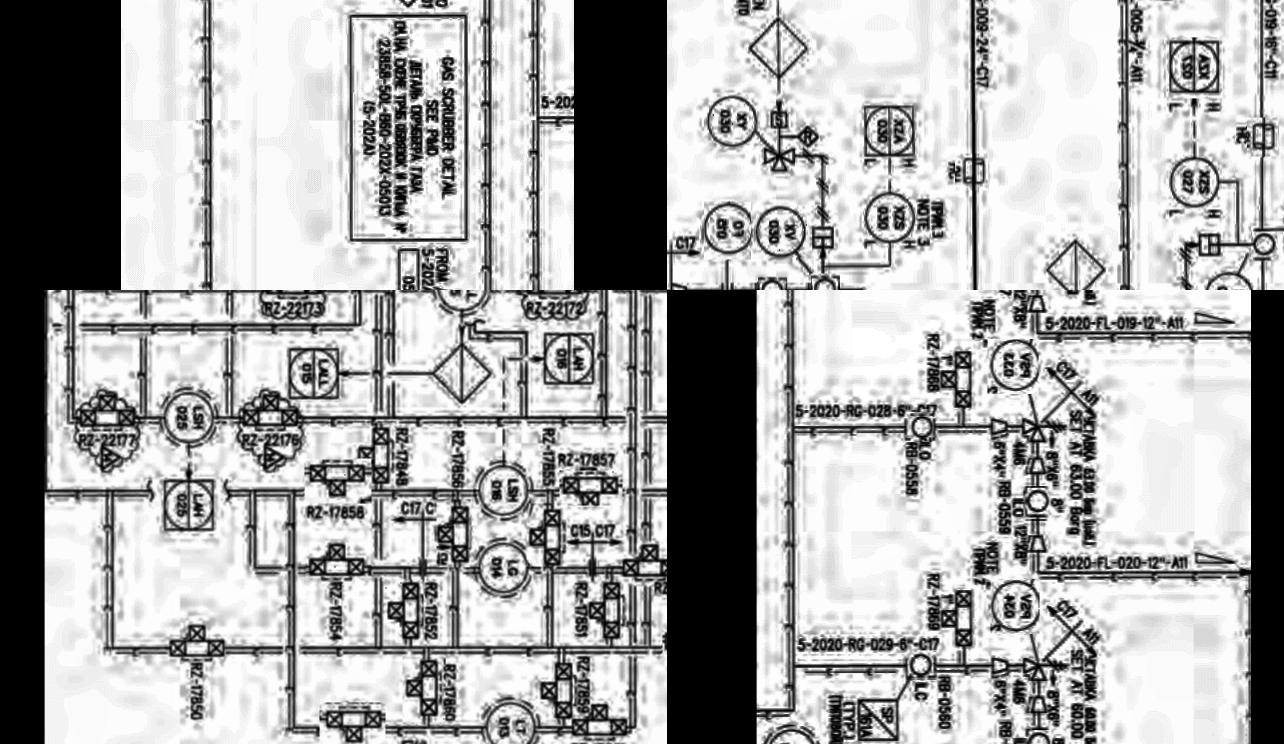2 WAY VALVE: (74, 387, 140, 434), (302, 459, 370, 504), (584, 576, 628, 644), (402, 656, 445, 724), (568, 700, 636, 742), (352, 422, 395, 488), (304, 542, 370, 584), (318, 702, 384, 744), (238, 390, 304, 432), (166, 622, 231, 664), (384, 579, 422, 649), (539, 660, 579, 724), (526, 503, 566, 566), (434, 499, 470, 567), (940, 345, 976, 412), (940, 585, 976, 648), (557, 470, 621, 505), (620, 540, 667, 583), (521, 290, 589, 302), (252, 290, 331, 300)
3 WAY GENERAL VALVE: (760, 145, 798, 173)
ANGLE RELIEF VALVE: (1014, 414, 1070, 446), (1018, 655, 1076, 683)
CONCENTRIC REDUCER: (986, 653, 1012, 677), (1024, 532, 1047, 556), (1025, 293, 1049, 315), (986, 418, 1012, 438), (1029, 694, 1047, 718), (1027, 456, 1048, 476)
DCS ACCESSIBLE: (858, 96, 921, 164), (158, 475, 222, 537), (539, 329, 600, 393), (1162, 38, 1224, 100), (284, 343, 344, 404)
DUPLEX RECEPTACLE: (954, 154, 988, 192), (1244, 118, 1276, 158)
END FLANGED: (714, 279, 738, 290)
FIELD INSTRUMENT: (157, 380, 217, 453), (470, 458, 532, 521), (470, 535, 529, 599), (861, 188, 917, 248), (702, 94, 758, 150), (986, 339, 1038, 394), (701, 202, 749, 261), (989, 578, 1039, 634), (484, 695, 540, 744), (753, 207, 806, 258), (1168, 154, 1208, 211), (429, 290, 496, 319), (762, 721, 822, 744), (1024, 486, 1050, 520), (908, 650, 937, 680), (908, 412, 932, 442), (1248, 232, 1274, 258), (807, 273, 837, 290), (755, 277, 785, 290), (1027, 730, 1051, 744)
HARDWIRED INTERLOCK FIELD: (795, 124, 823, 150)
HARDWIRED INTERLOCK PRIMARY.: (431, 336, 492, 409), (746, 17, 810, 81), (1044, 240, 1106, 290)
REVISION TRIANGLE: (92, 440, 131, 480)
SPECIAL PIPING ITEM: (851, 693, 902, 744)
SPEED FLOW METER: (766, 104, 789, 131)
